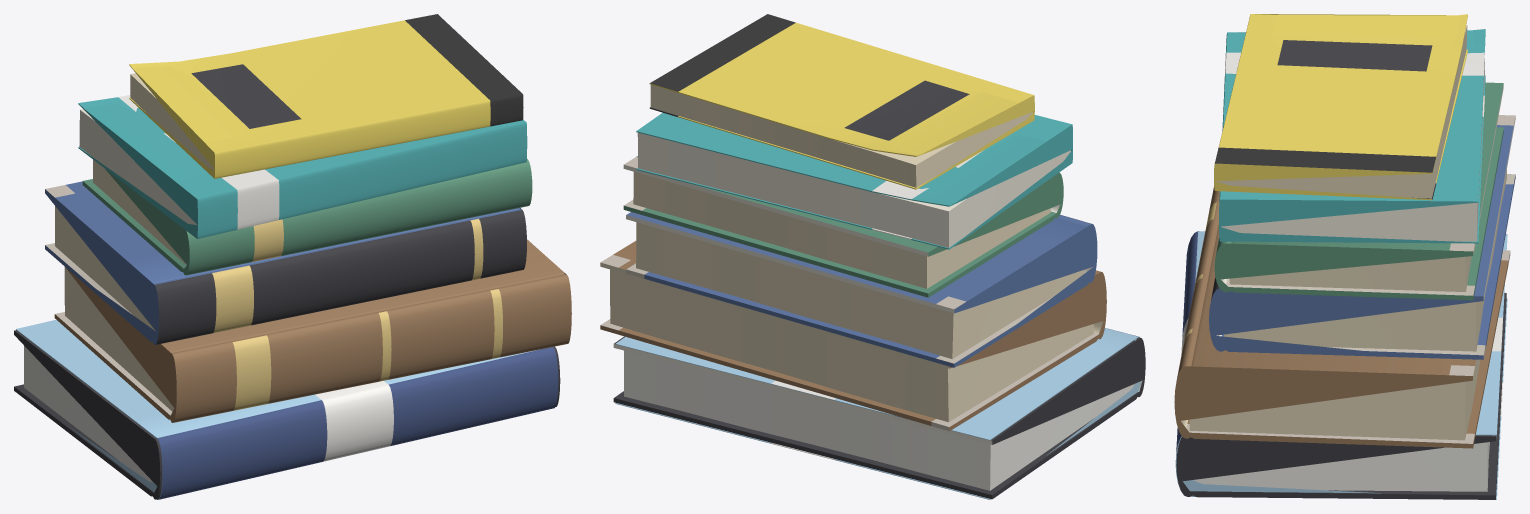
File: paper_books_stacked_a.fbx
The picture shows the model from 3 angles, left to right: view 1: azimuth 30°, elevation 25°; view 2: azimuth 150°, elevation 25°; view 3: azimuth 270°, elevation 25°; orthographic projection. The views are drawn at different scales.
Visible parts, largest first — view 1: paper_books_stacked_a; view 2: paper_books_stacked_a; view 3: paper_books_stacked_a.
Part boxes in pixels (x1,y1,x2,y2): paper_books_stacked_a: [14, 14, 571, 499]; paper_books_stacked_a: [600, 14, 1145, 499]; paper_books_stacked_a: [1174, 14, 1515, 499].
Bounding box in the file's own units: 0.2586 × 0.1843 × 0.1707.
